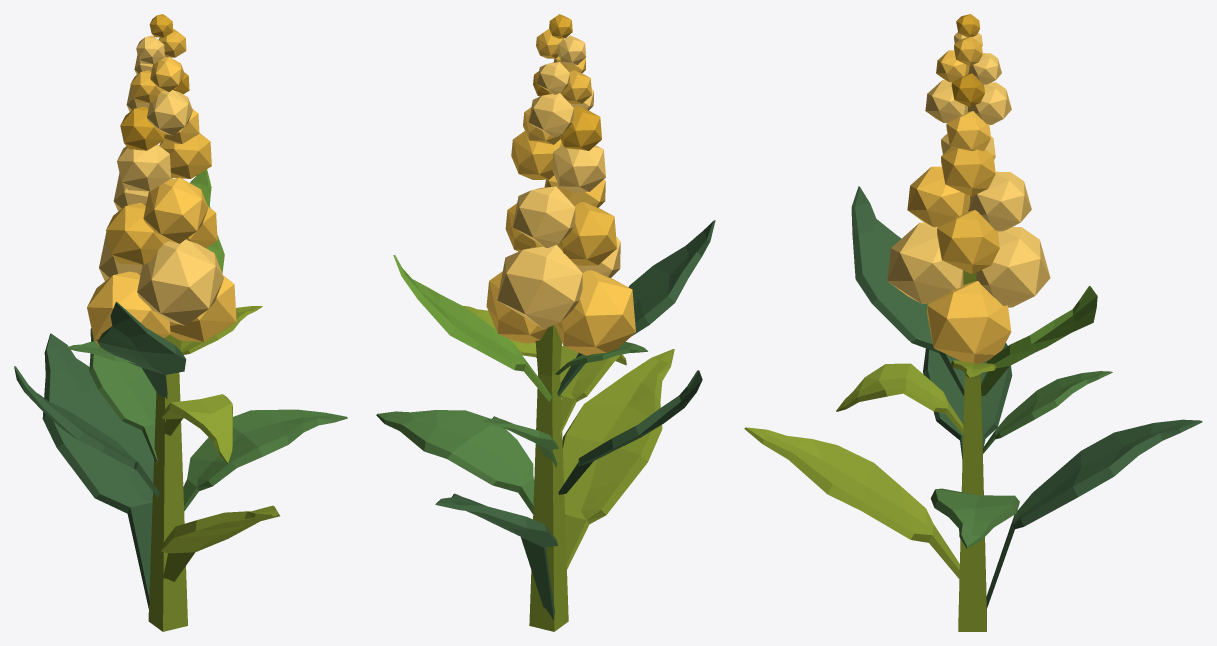
The model's file is EA_M_Env_Flower_02a.fbx.
3 views of the same model, side by side, from view 1: azimuth 30°, elevation 25°; view 2: azimuth 150°, elevation 25°; view 3: azimuth 270°, elevation 25° (orthographic).
Parts seen in each view (by area): view 1: EA_M_Env_Flower_02a_LOD0; view 2: EA_M_Env_Flower_02a_LOD0; view 3: EA_M_Env_Flower_02a_LOD0.
Part boxes in pixels (x1,y1,x2,y2): EA_M_Env_Flower_02a_LOD0: (14,14,347,631); EA_M_Env_Flower_02a_LOD0: (376,14,715,631); EA_M_Env_Flower_02a_LOD0: (744,14,1202,631).
Size of what is drawn, in the model's own units: 0.6841 by 1.21 by 0.8338.
